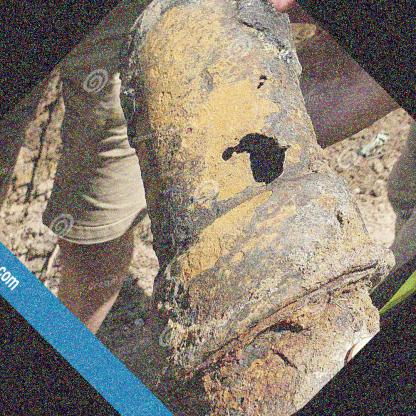burst: (206, 128, 307, 204)
